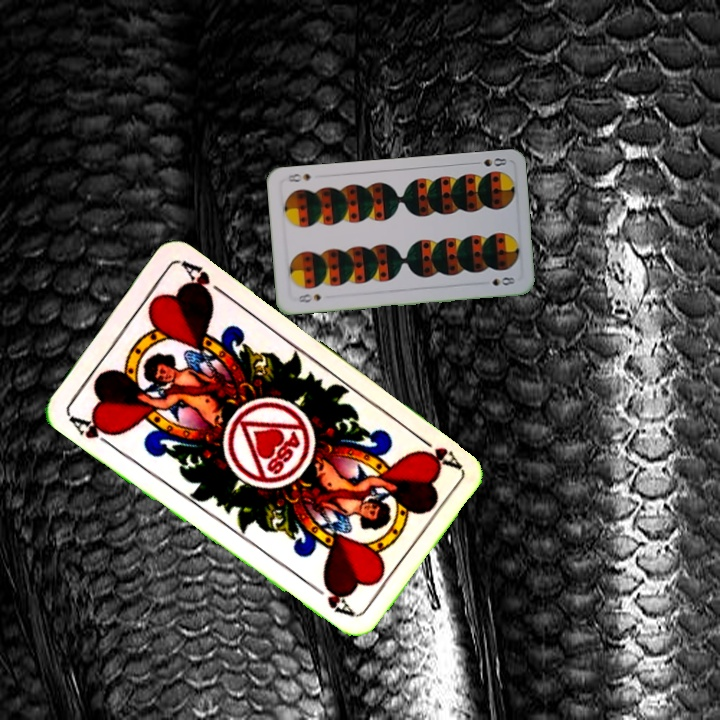HA: (64, 411, 119, 451), (411, 430, 463, 472)
S8: (469, 154, 509, 169), (293, 290, 323, 305)
